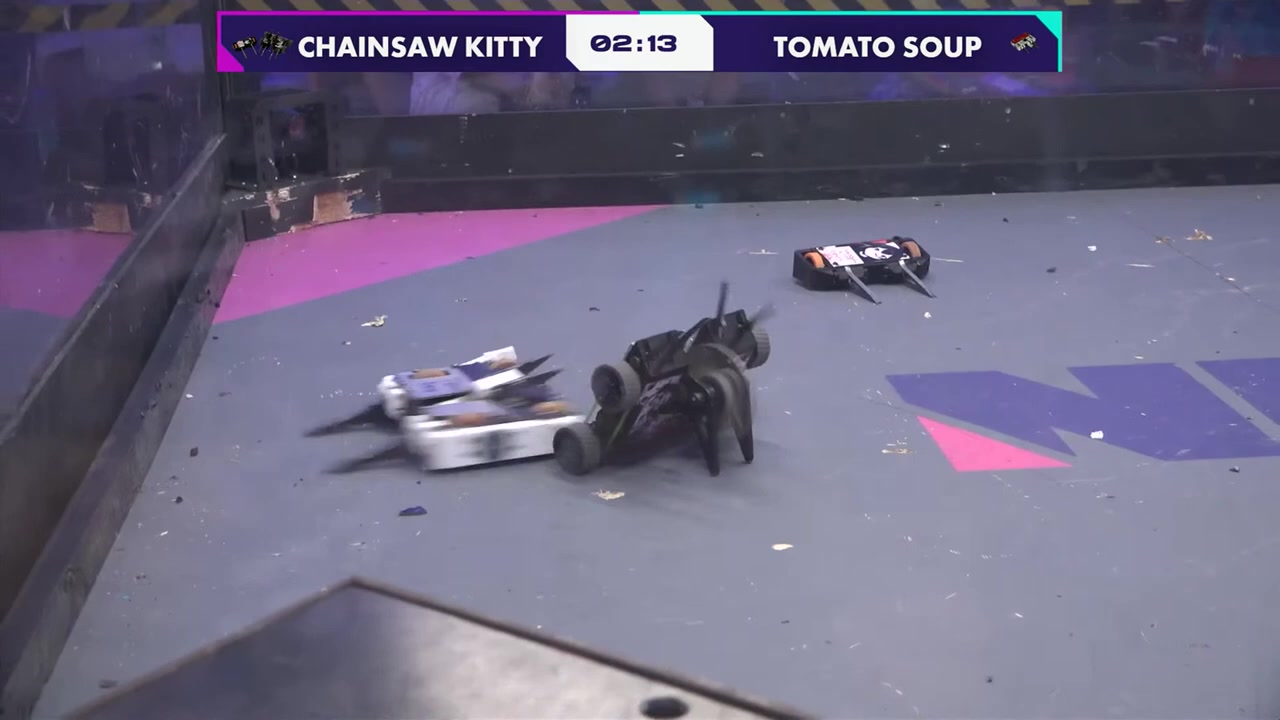combatbot: (553, 282, 771, 477), (304, 341, 587, 483)
housebot: (49, 573, 866, 720)
minibot: (794, 234, 936, 303)
